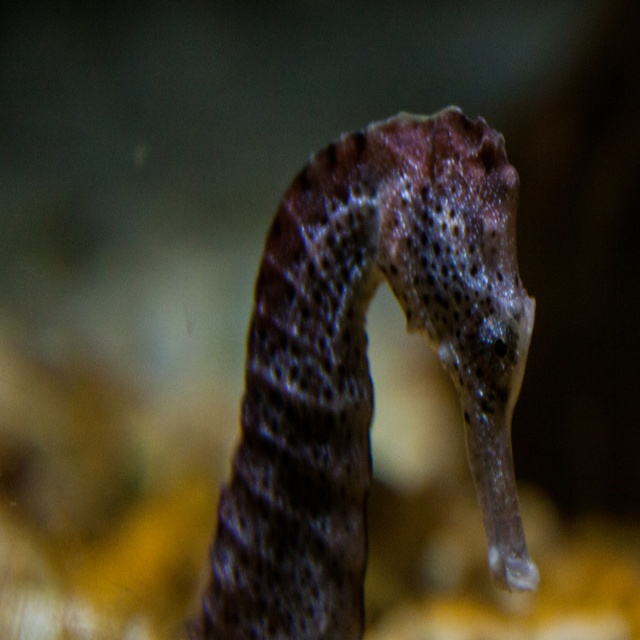Seahorse: (192, 99, 542, 639)
